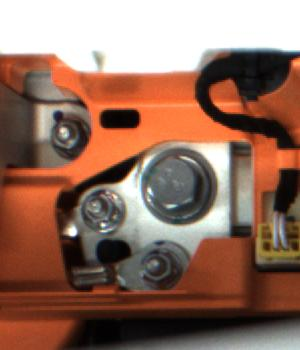nut_b: (136, 145, 220, 227)
